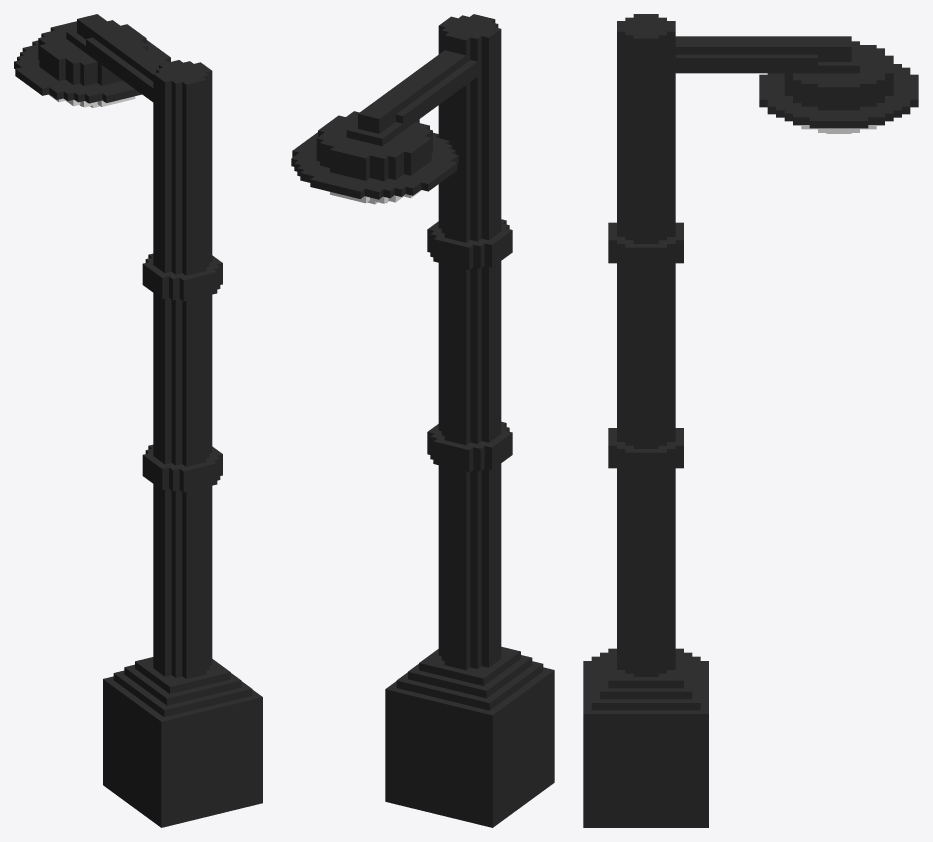
The model's file is faro.obj.
3 views of the same model, side by side, from view 1: azimuth 30°, elevation 25°; view 2: azimuth 150°, elevation 25°; view 3: azimuth 270°, elevation 25° (orthographic). The views are drawn at different scales.
Parts seen in each view (by area): view 1: streetlamp; view 2: streetlamp; view 3: streetlamp.
Boxes of the visible parts, x1=… form: streetlamp: x1=14, y1=14, x2=262, y2=827; streetlamp: x1=291, y1=14, x2=554, y2=827; streetlamp: x1=583, y1=14, x2=918, y2=827.
Bounding box in the file's own units: 5.67 × 30.44 × 11.94.
